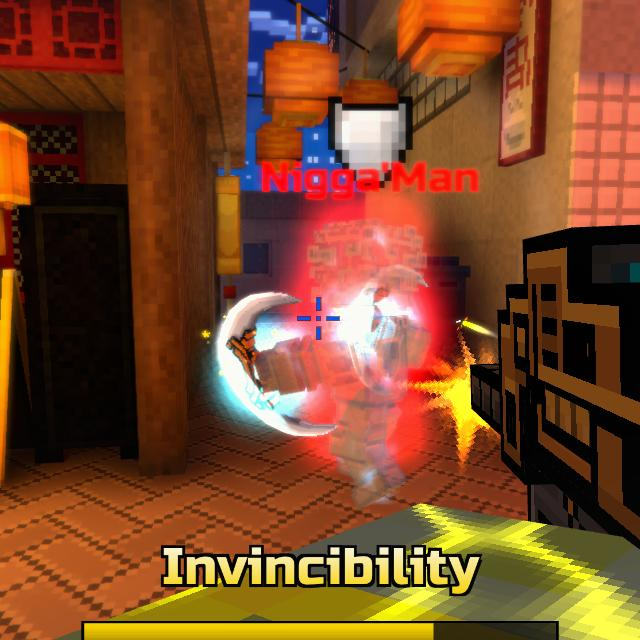Enemy: (255, 217, 432, 509)
